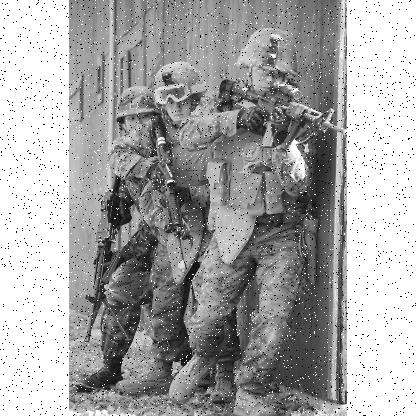gun: (197, 72, 338, 158), (82, 171, 132, 346), (155, 112, 188, 274)
